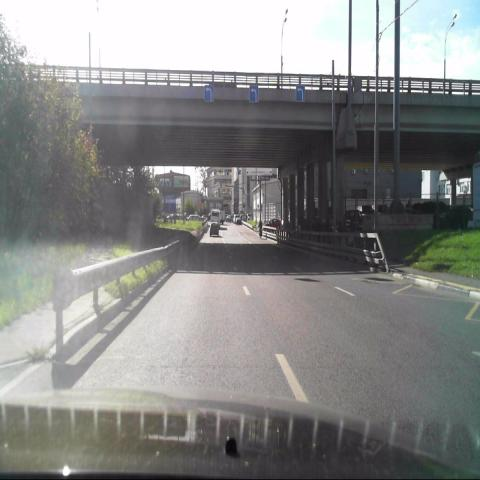5_15_2: (249, 84, 259, 103), (296, 83, 306, 102), (204, 83, 213, 102)
